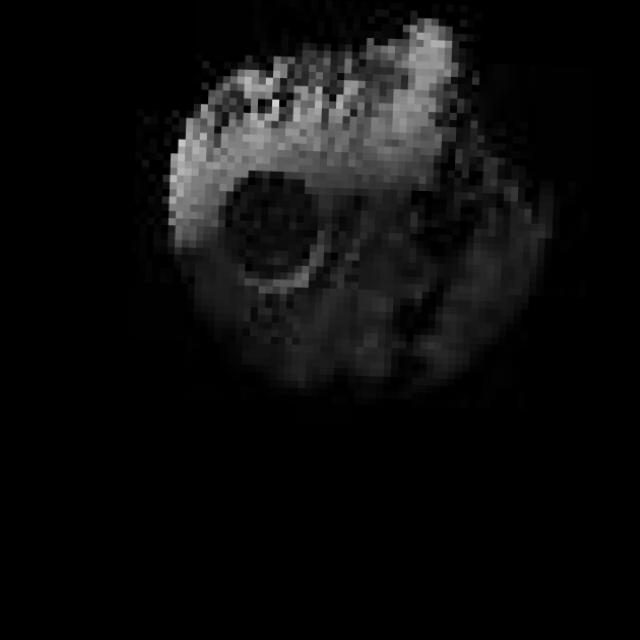Death Star: (146, 0, 572, 411)
